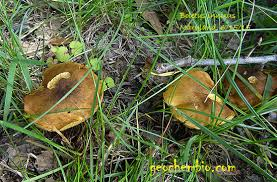boletus_poisinous: (22, 54, 118, 138)
